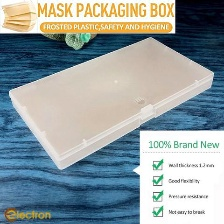plastic_box: (2, 33, 217, 174)
